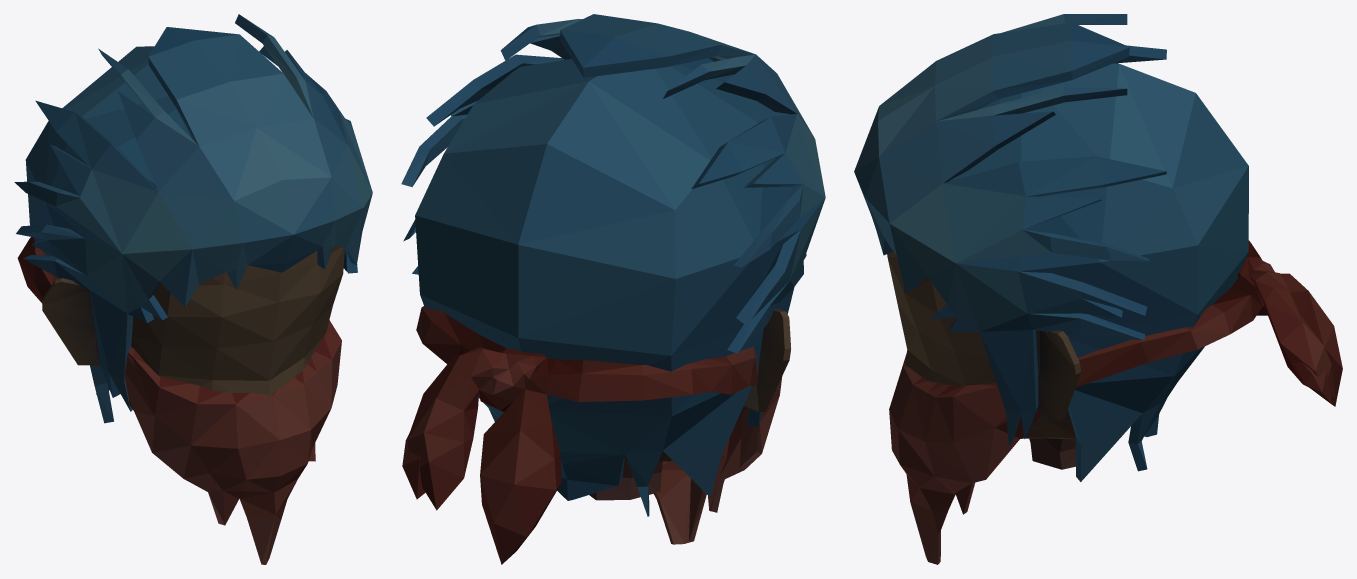
The model's file is helm_darkskin_spike_blue_bandana.fbx.
3 renders of one model, left to right at view 1: azimuth 30°, elevation 25°; view 2: azimuth 150°, elevation 25°; view 3: azimuth 270°, elevation 25°, orthographic. The views are drawn at different scales.
Visible parts, largest first — view 1: helm_darkskin_spike_blue_bandana; view 2: helm_darkskin_spike_blue_bandana; view 3: helm_darkskin_spike_blue_bandana.
Part boxes in pixels (x1=…): helm_darkskin_spike_blue_bandana: x1=14, y1=14, x2=372, y2=564; helm_darkskin_spike_blue_bandana: x1=401, y1=14, x2=825, y2=564; helm_darkskin_spike_blue_bandana: x1=854, y1=14, x2=1342, y2=564.
Size of the model in its own units: 1.13 by 1.71 by 1.46.
